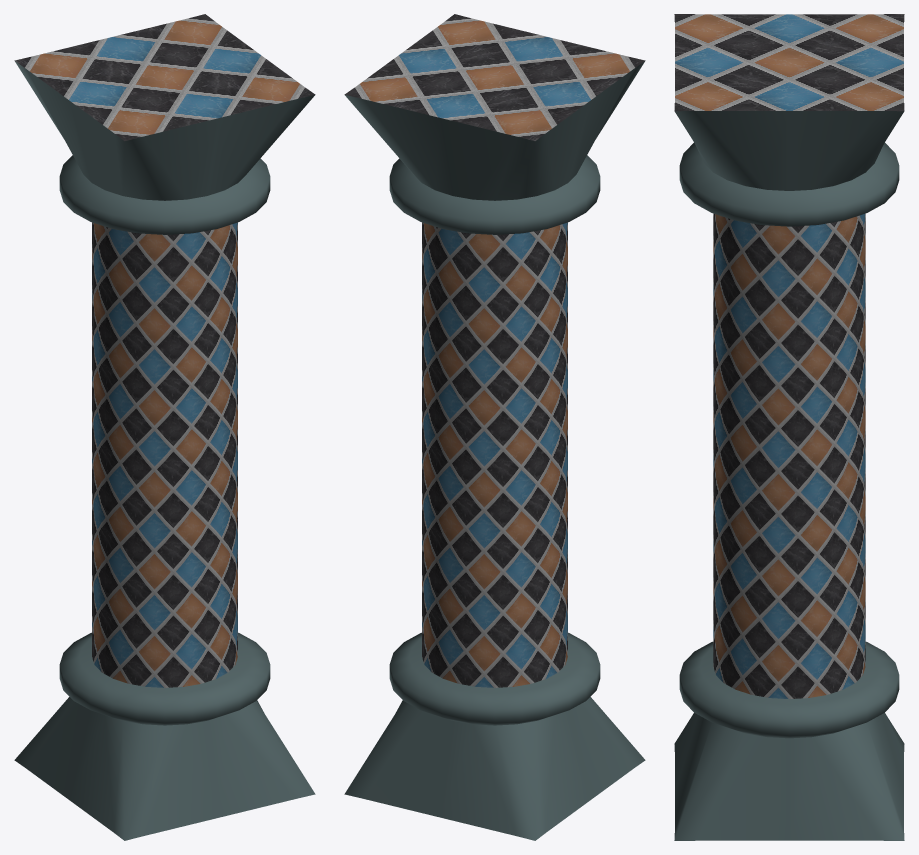
The model's file is DI_047_pillar.glb.
3 renders of one model, left to right at view 1: azimuth 30°, elevation 25°; view 2: azimuth 150°, elevation 25°; view 3: azimuth 270°, elevation 25°, orthographic. The views are drawn at different scales.
Visible parts, largest first — view 1: Pillar.003, Stand, Stand.001; view 2: Pillar.003, Stand, Stand.001; view 3: Pillar.003, Stand, Stand.001.
Boxes of the visible parts, box(x1,y1,x2,y2) form: Pillar.003: box(92, 222, 237, 687); Stand: box(14, 14, 315, 234); Stand.001: box(14, 632, 315, 840); Pillar.003: box(422, 222, 567, 687); Stand: box(344, 14, 645, 234); Stand.001: box(344, 632, 645, 840); Pillar.003: box(713, 213, 865, 698); Stand: box(674, 14, 904, 226); Stand.001: box(674, 641, 904, 840).
Size of the model in its own units: 0.75 by 2.63 by 0.75.
Materials: 2 (1 with a texture image).
